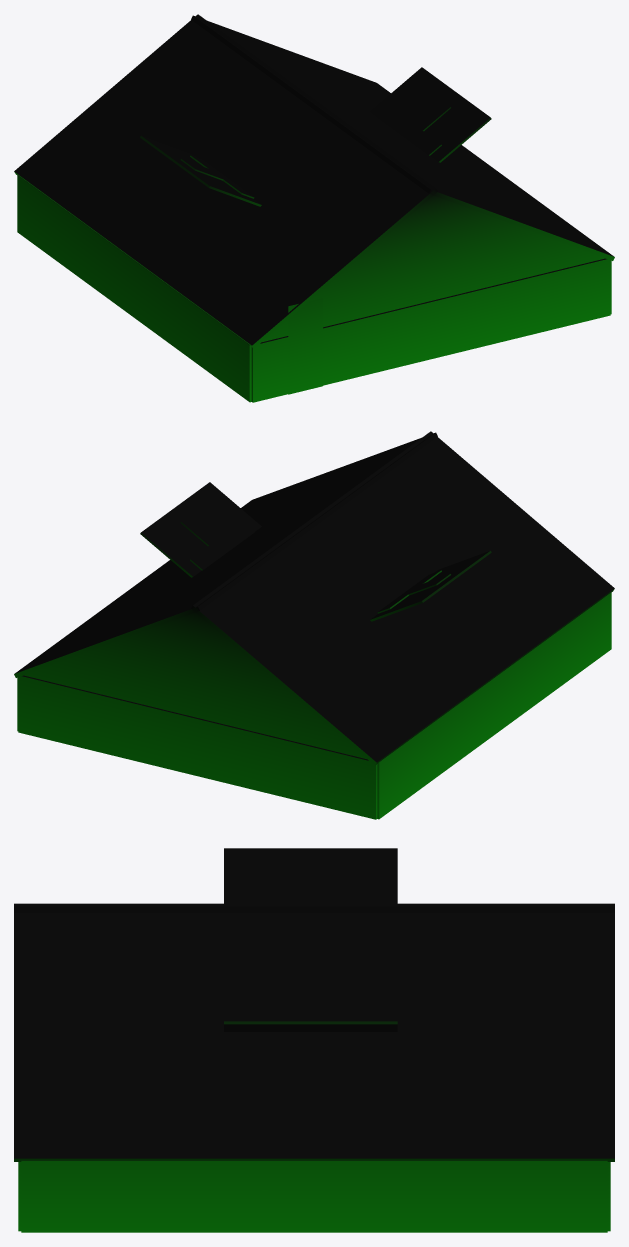
The model's file is htent.glb.
The picture shows the model from 3 angles, top to bottom: view 1: azimuth 30°, elevation 25°; view 2: azimuth 150°, elevation 25°; view 3: azimuth 270°, elevation 25°; orthographic projection. The views are drawn at different scales.
Visible parts, largest first — view 1: lod0; view 2: lod0; view 3: lod0.
Boxes of the visible parts, left/top/right/bottom form: lod0: left=14, top=14, right=614, bottom=402; lod0: left=14, top=431, right=614, bottom=819; lod0: left=14, top=848, right=614, bottom=1232.
Size of what is drawn, in the model's own units: 7.3 by 3.29 by 8.3.
